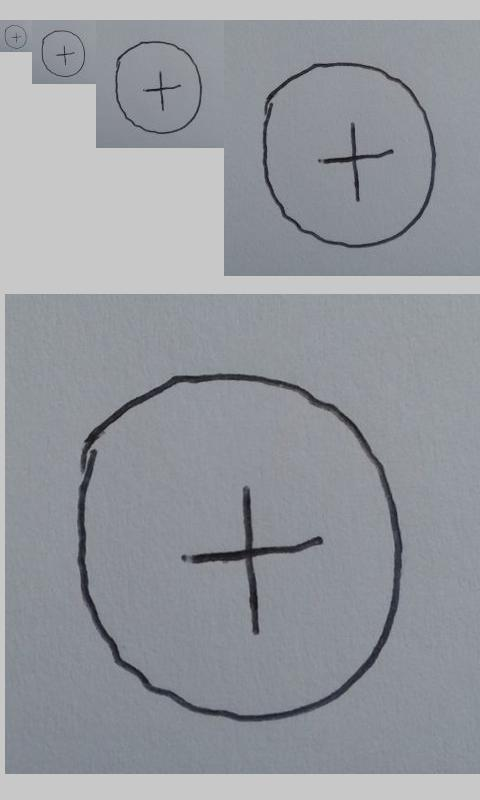button: (75, 373, 404, 723), (262, 61, 437, 249), (115, 40, 204, 135), (41, 30, 85, 78), (4, 25, 27, 50)
